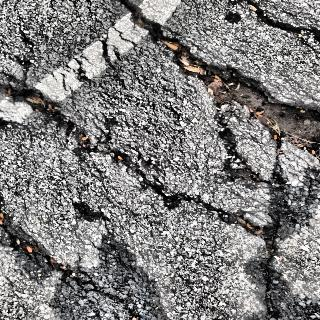crack: (0, 50, 181, 211), (208, 154, 320, 320), (7, 228, 146, 320), (108, 0, 198, 50), (235, 2, 320, 41)
pothole: (202, 64, 318, 148)
